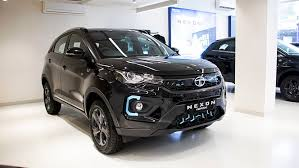Tata Nexon: (38, 25, 227, 155)
